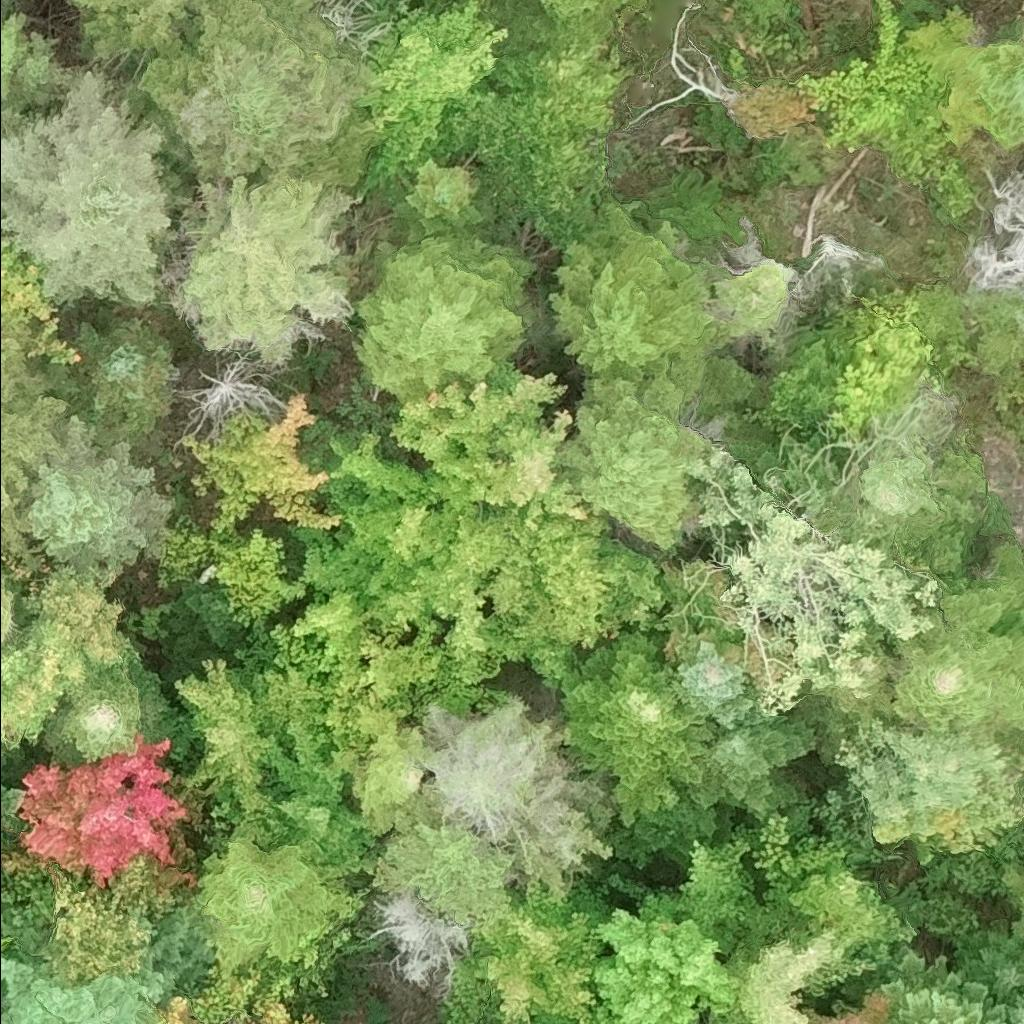crown: (684, 443, 941, 712), (288, 429, 513, 662), (136, 0, 384, 190), (0, 66, 189, 307), (557, 626, 735, 864), (227, 611, 450, 785), (427, 31, 636, 214), (389, 357, 591, 533), (546, 191, 727, 382), (484, 504, 668, 686), (182, 172, 358, 360), (349, 227, 539, 401), (420, 696, 597, 874), (555, 347, 707, 551), (208, 720, 392, 877), (801, 0, 954, 187), (357, 0, 511, 185), (0, 562, 144, 754), (14, 735, 190, 887), (891, 537, 1023, 732), (0, 905, 214, 1023), (19, 417, 177, 575), (183, 835, 364, 971), (674, 814, 850, 953), (442, 879, 607, 1023), (182, 391, 343, 535), (590, 891, 743, 1023), (152, 517, 314, 628), (167, 657, 279, 813), (852, 442, 988, 569), (0, 323, 69, 570), (372, 809, 515, 928), (55, 314, 184, 445), (41, 660, 173, 766), (788, 857, 916, 962), (707, 702, 820, 820), (833, 297, 932, 427), (361, 886, 473, 1000), (170, 339, 290, 441), (350, 702, 434, 837), (940, 18, 1023, 152), (0, 233, 82, 368), (876, 944, 1010, 1023), (391, 151, 498, 242), (65, 0, 212, 61), (676, 638, 761, 736), (969, 168, 1023, 296), (0, 11, 63, 108), (170, 576, 250, 650), (715, 260, 787, 340), (950, 922, 1023, 999), (805, 983, 890, 1023), (534, 0, 610, 25), (1001, 865, 1023, 942), (263, 1003, 331, 1023), (0, 783, 23, 835), (164, 998, 201, 1023), (1003, 987, 1023, 1023), (0, 743, 10, 779), (619, 0, 635, 5)
